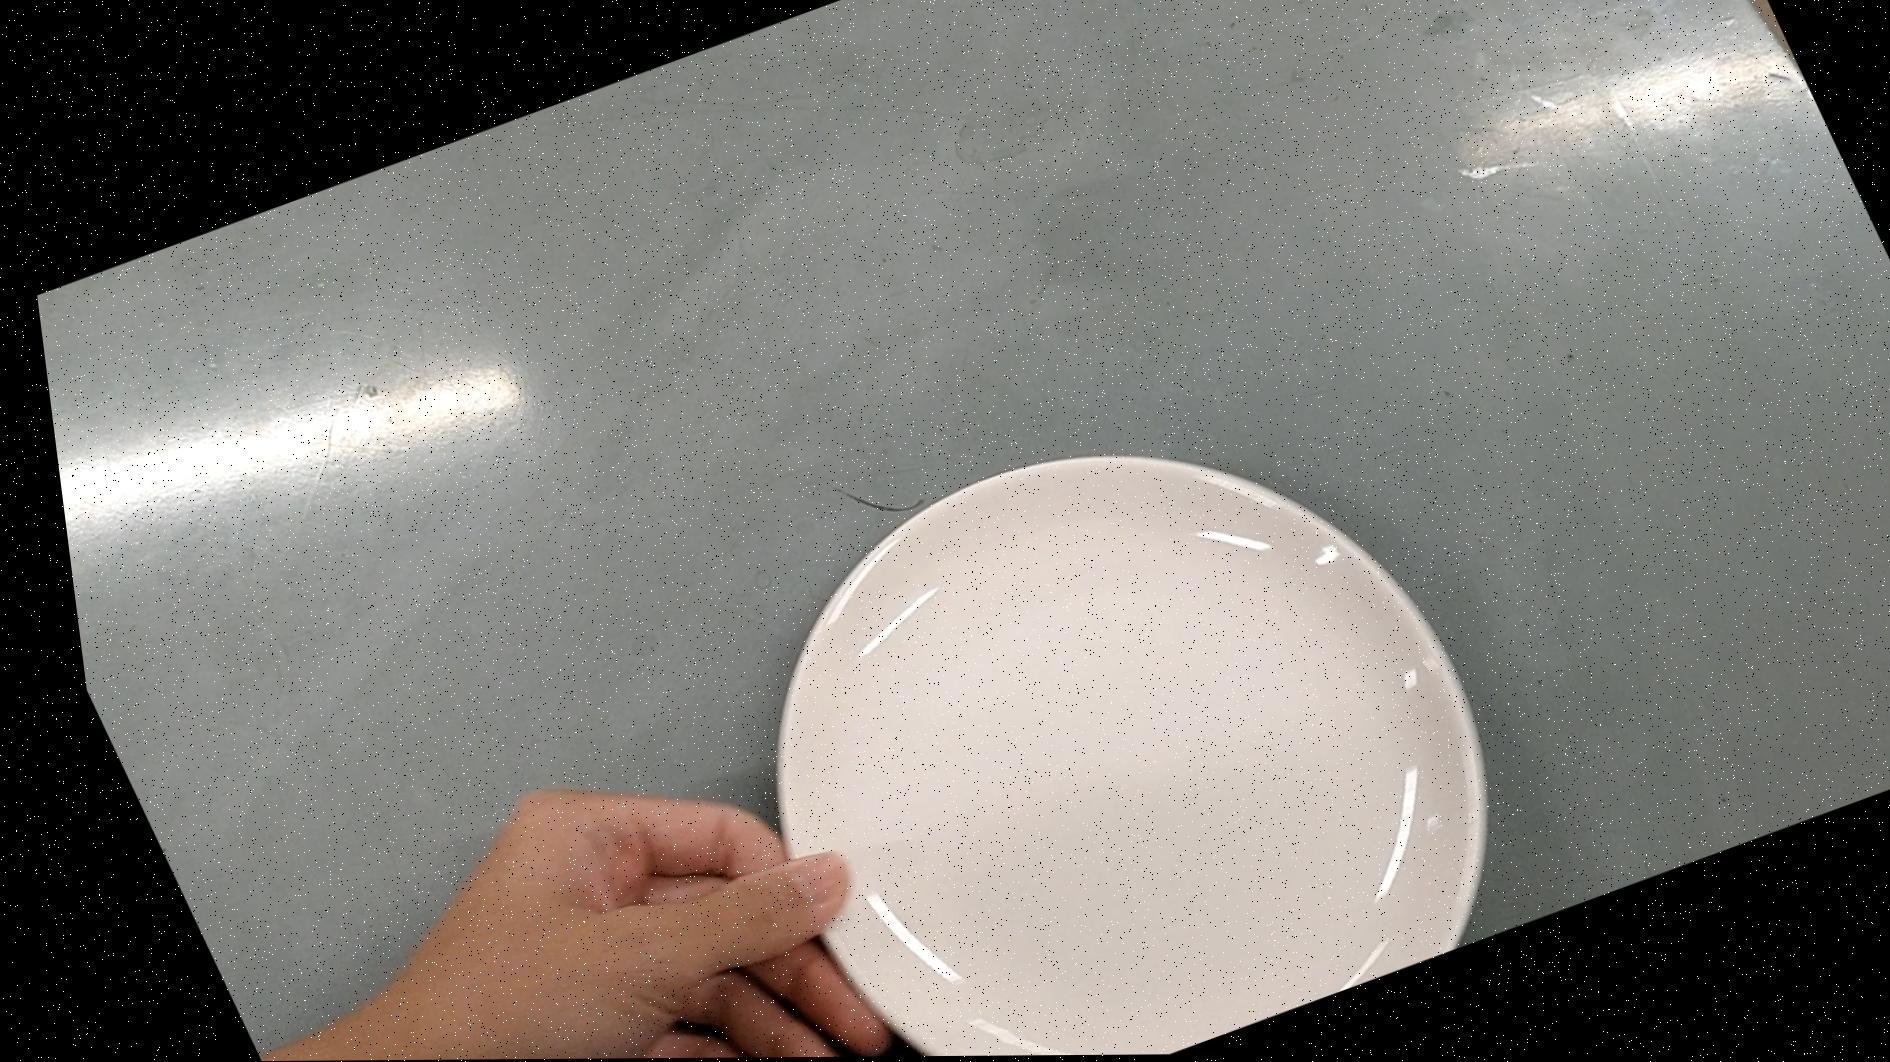plate: (615, 354, 1562, 1058)
